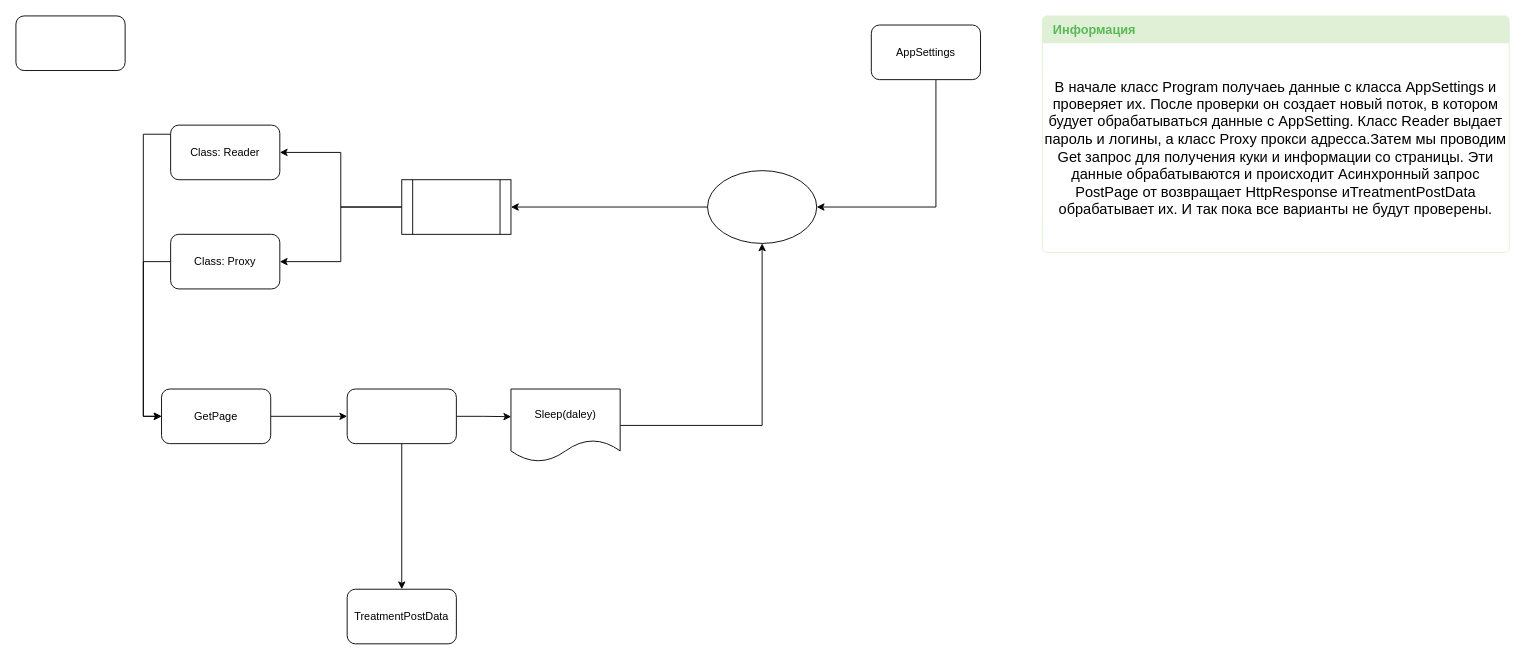
This 1525x660 diagram has some shape labels left out. The shapes that lost their labels are listed below. From the top down, each one's centre as x and y in pixels, then its label:
pixel 70 43: Title: MBF Author: A. Sarkiz
pixel 456 206: new Thread
pixel 762 206: Class: Program Main
pixel 401 416: PostPage
